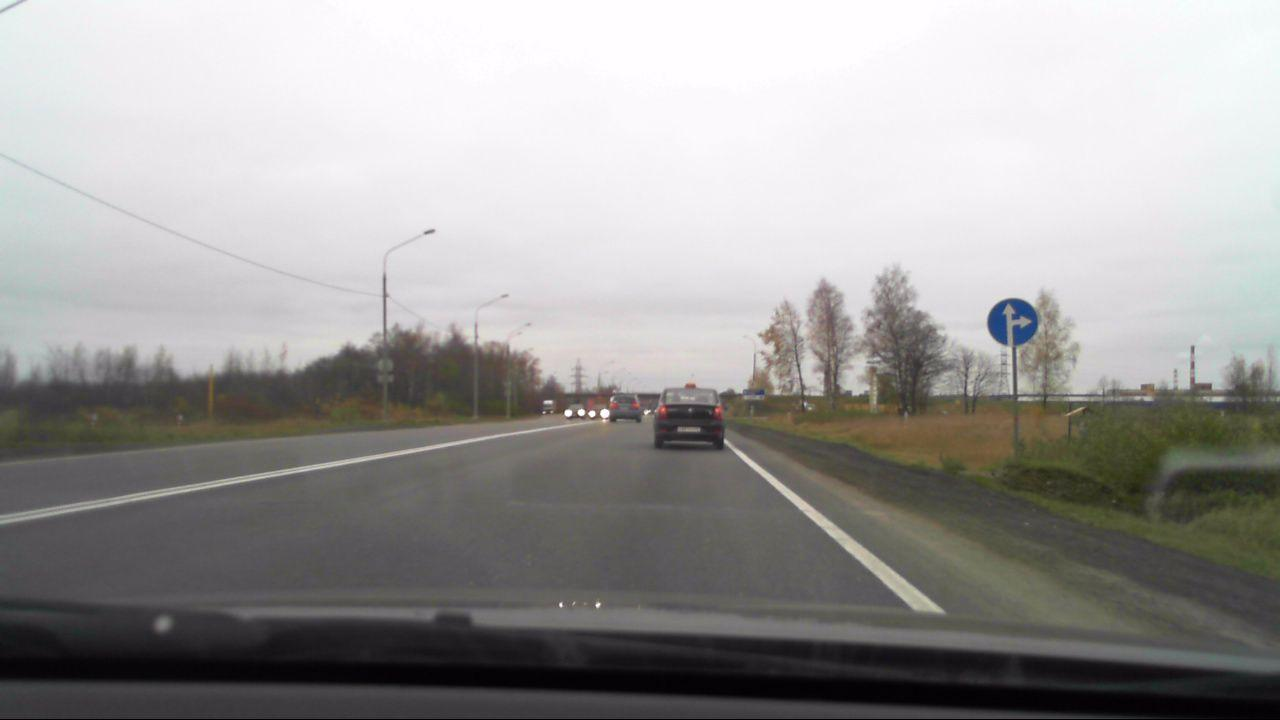4_1_4: (985, 297, 1042, 349)
